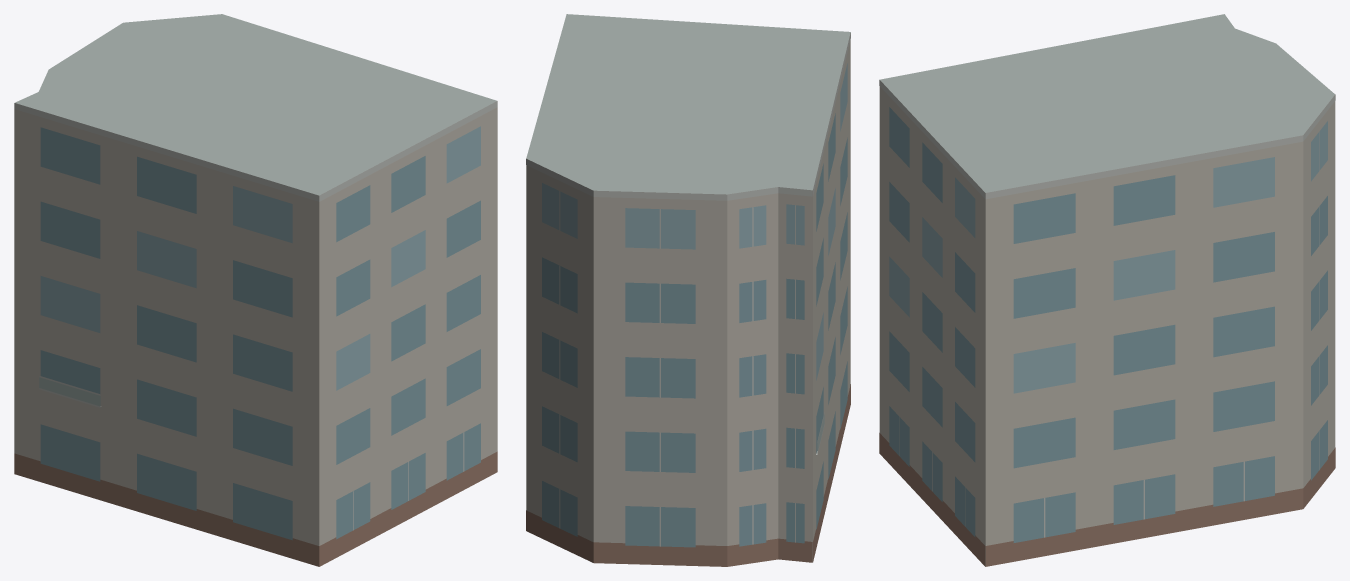
The model's file is survey-upis-32776031.glb.
The picture shows the model from 3 angles, left to right: view 1: azimuth 30°, elevation 25°; view 2: azimuth 150°, elevation 25°; view 3: azimuth 270°, elevation 25°; orthographic projection.
Parts seen in each view (by area): view 1: survey-upis-32776031.tmp; view 2: survey-upis-32776031.tmp; view 3: survey-upis-32776031.tmp.
Part boxes in pixels (x1,y1,x2,y2): survey-upis-32776031.tmp: [14, 14, 497, 566]; survey-upis-32776031.tmp: [526, 14, 850, 566]; survey-upis-32776031.tmp: [879, 14, 1335, 566].
Bounding box in the file's own units: 14.8 × 14.4 × 15.92.
